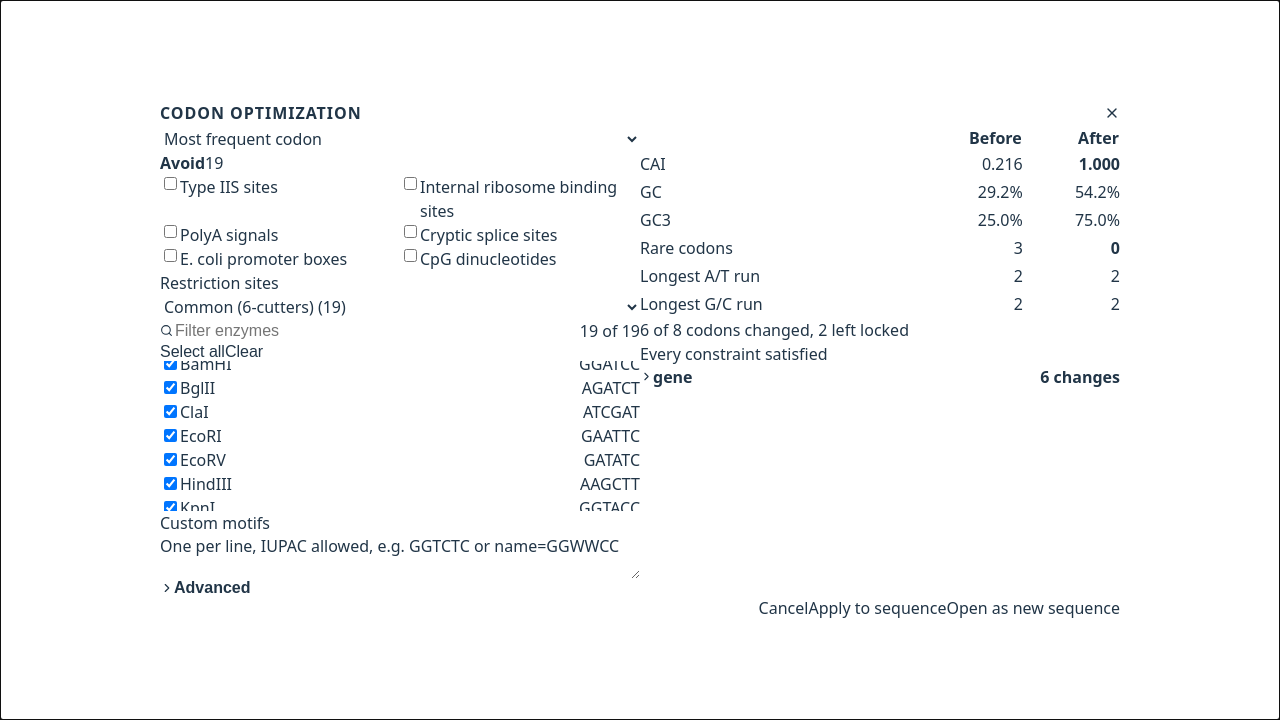
Test: codon optimization dialog › stops avoiding an enzyme when it is unticked
(page scrolled)
Click the checkbox labelled "EcoRI GAATTC": (170, 436) [164, 429, 177, 442]
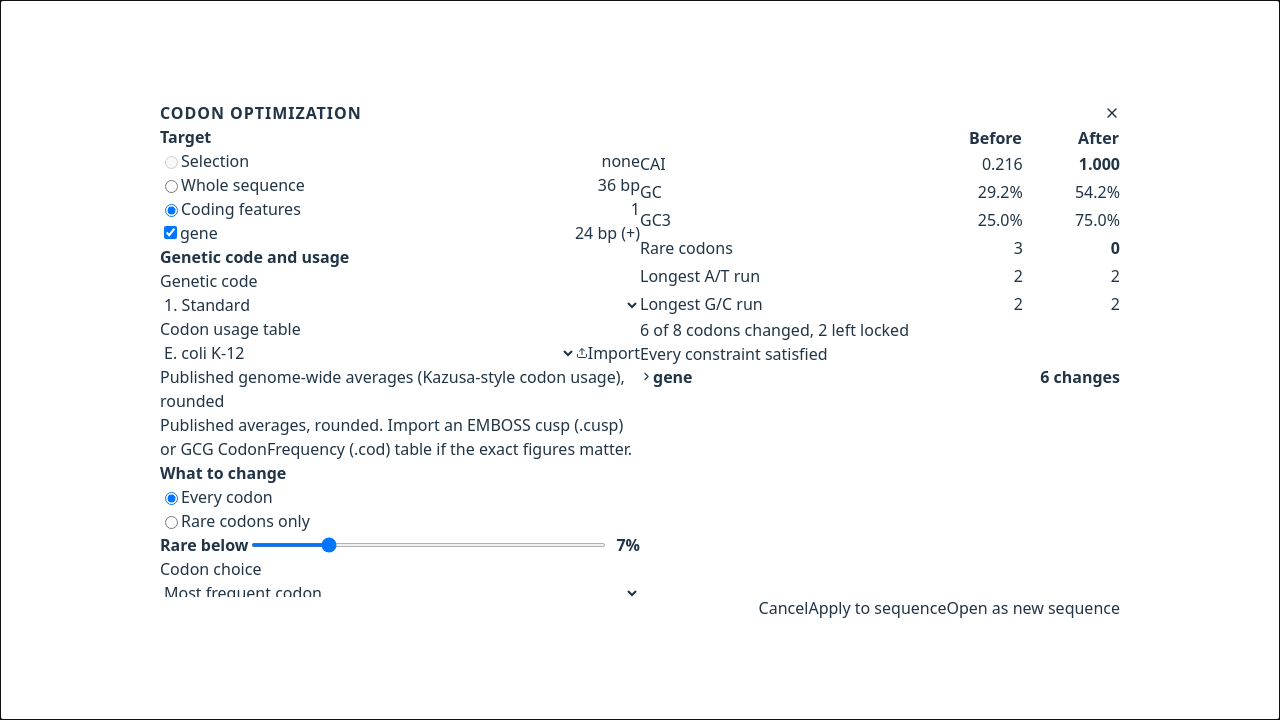
Check: the radio button labelled "Selection none" is not checked, box [165, 156, 178, 169]
